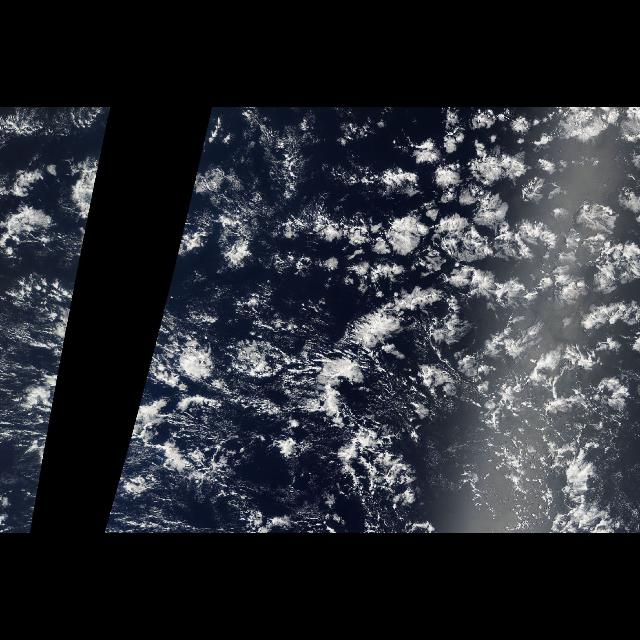Flower: (308, 109, 636, 498)
Gravel: (477, 350, 633, 530)
